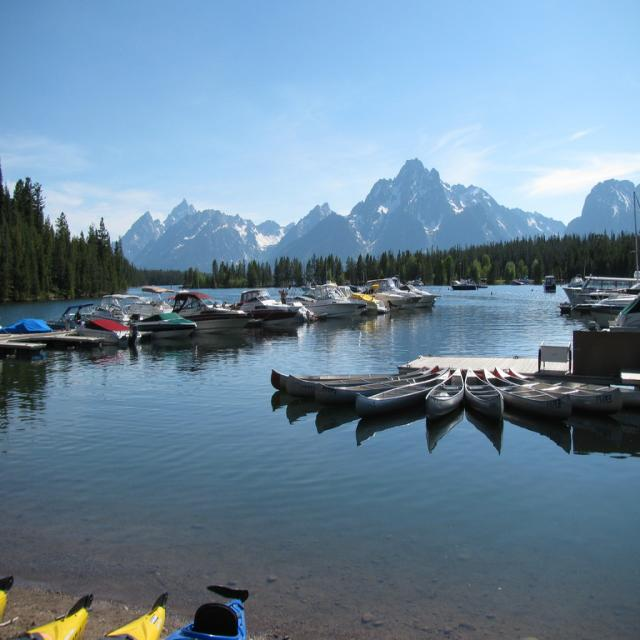Boat: (262, 359, 626, 425), (574, 286, 640, 376), (45, 296, 138, 352), (564, 265, 640, 315), (238, 284, 310, 332), (298, 275, 377, 317), (137, 292, 201, 342), (178, 288, 256, 329), (0, 325, 75, 359), (571, 292, 637, 327), (378, 272, 436, 308), (351, 273, 397, 318), (448, 268, 496, 294)
